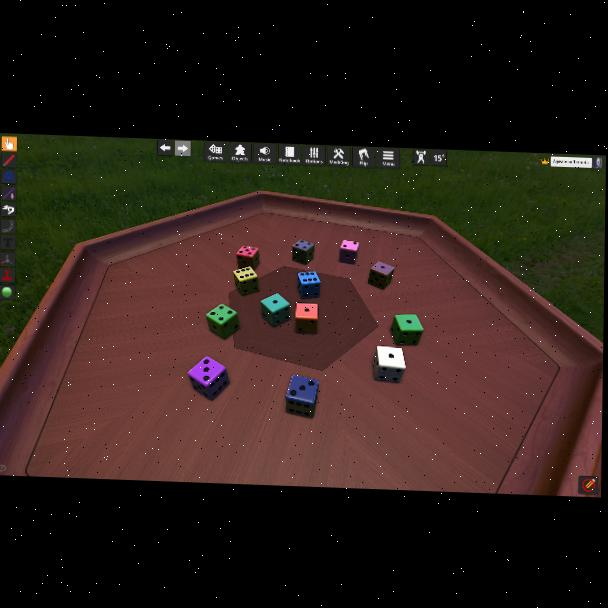d6: (188, 355, 227, 401), (285, 374, 319, 419), (205, 303, 238, 339), (374, 345, 406, 382), (260, 293, 291, 328), (391, 314, 422, 347), (233, 266, 259, 297), (367, 261, 393, 291), (295, 303, 318, 334), (296, 271, 320, 300), (236, 245, 260, 271), (292, 240, 315, 266), (339, 240, 358, 264)
